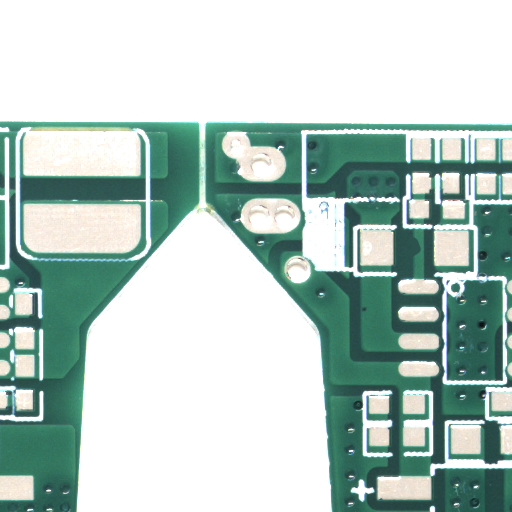Mouse_bite: (415, 248, 425, 269)
